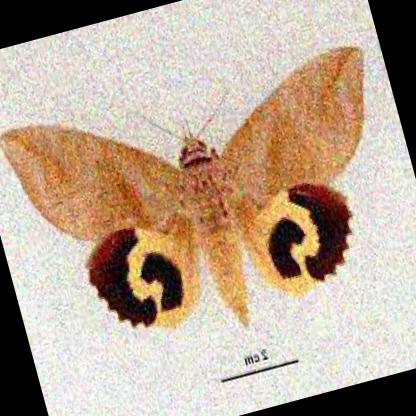fruit sucking moth: (0, 44, 367, 332)
